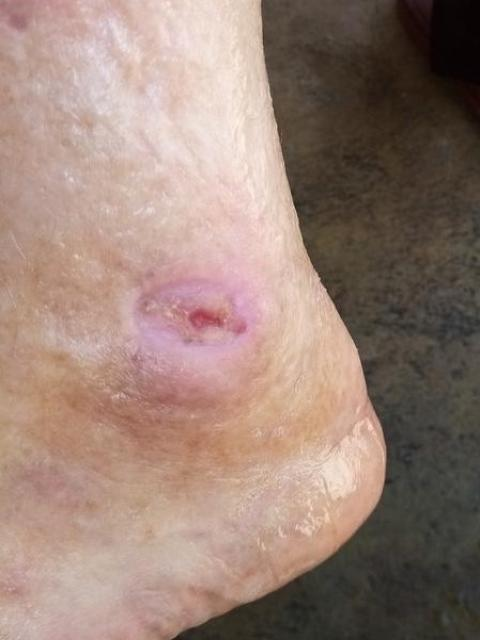wound: (140, 281, 267, 357)
